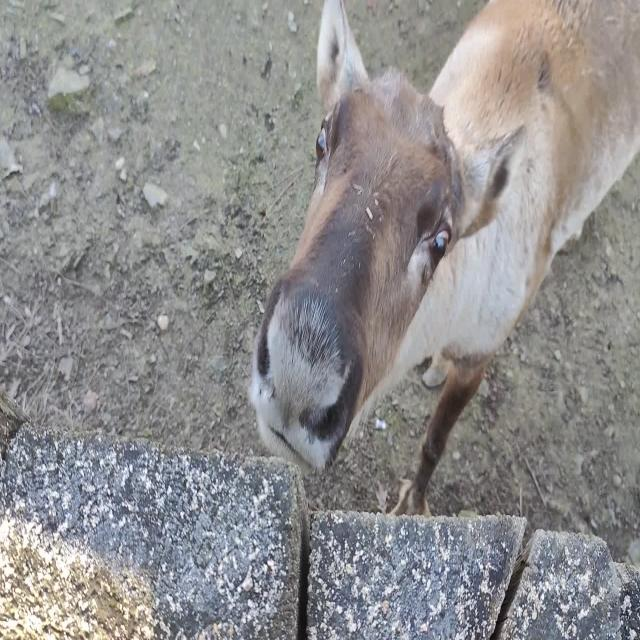deer: (251, 0, 640, 516)
